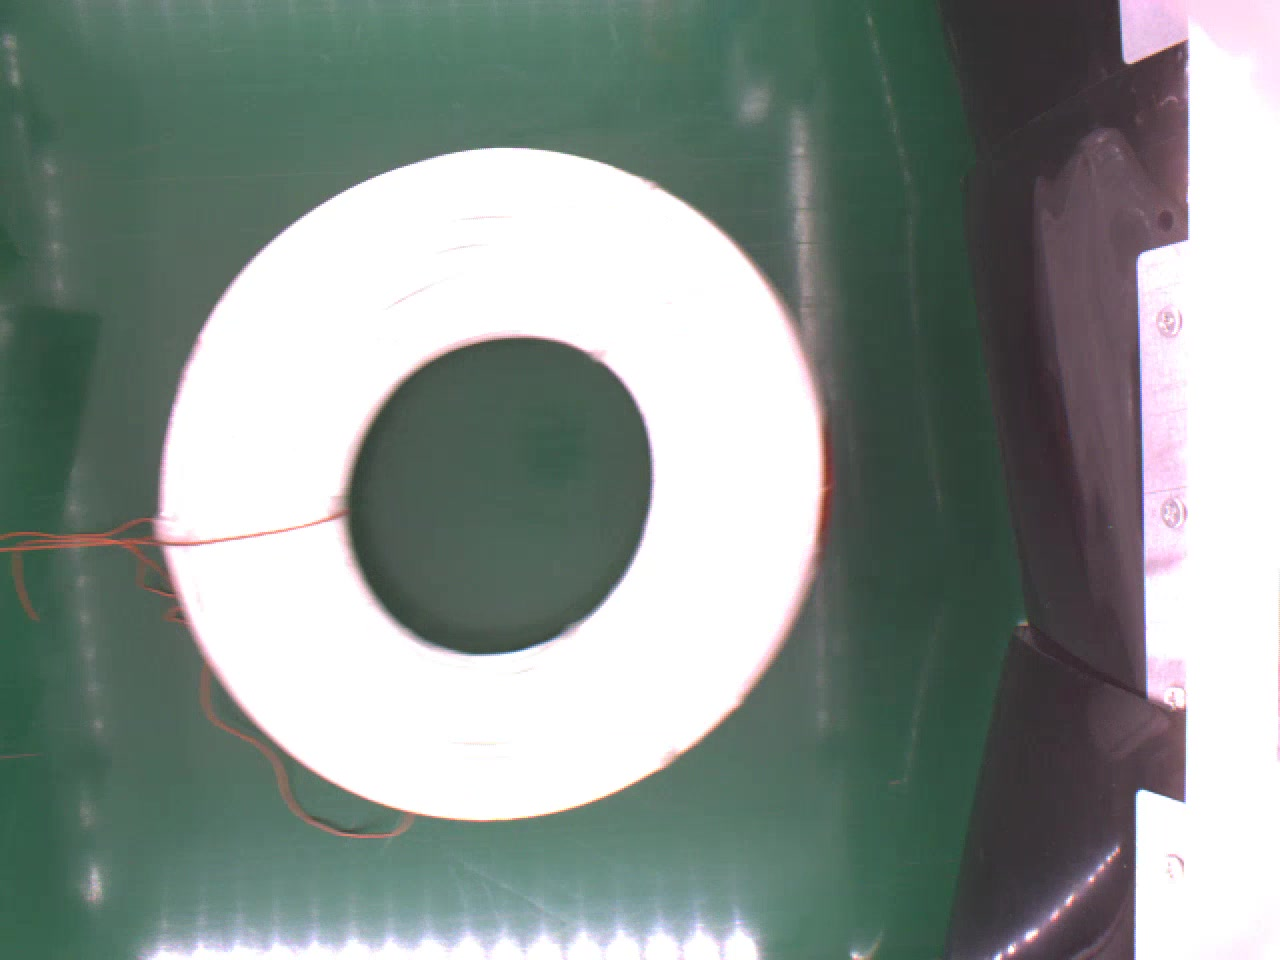white: (160, 140, 828, 820)
